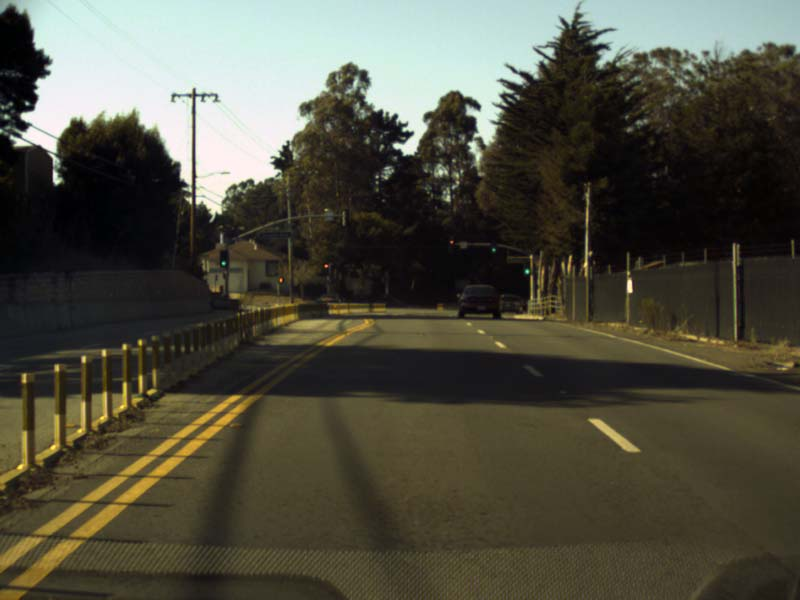Green: (219, 250, 228, 267), (522, 259, 531, 275), (490, 240, 497, 254)
Red: (447, 238, 455, 253), (322, 263, 329, 275)
